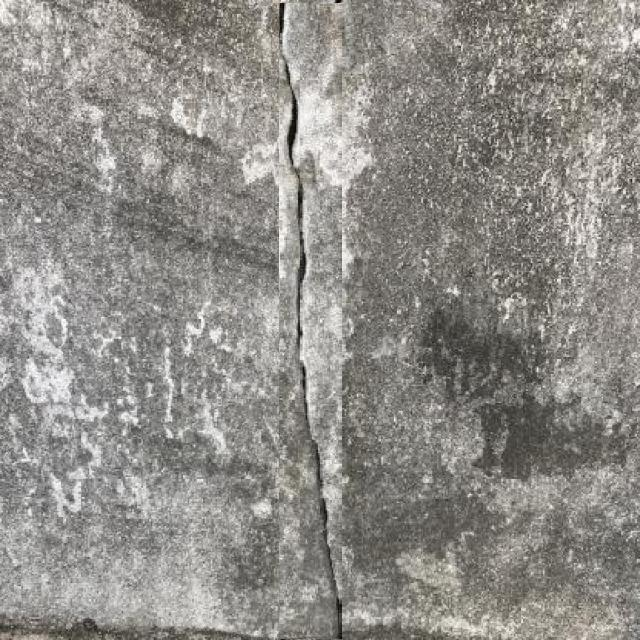vertical crack: (280, 3, 340, 636)
